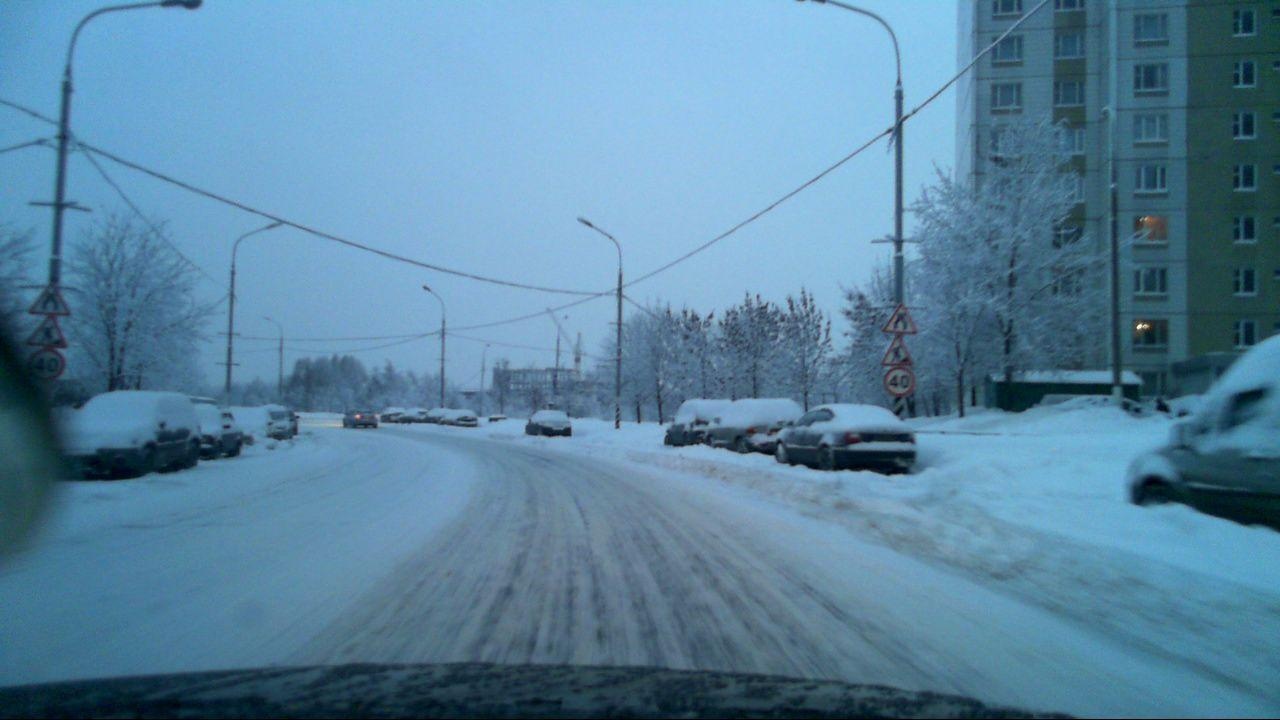1_20_1: (22, 281, 68, 317), (883, 299, 917, 334)
1_25: (28, 315, 67, 348), (884, 336, 912, 366)
3_24: (25, 348, 68, 380), (883, 366, 918, 395)
